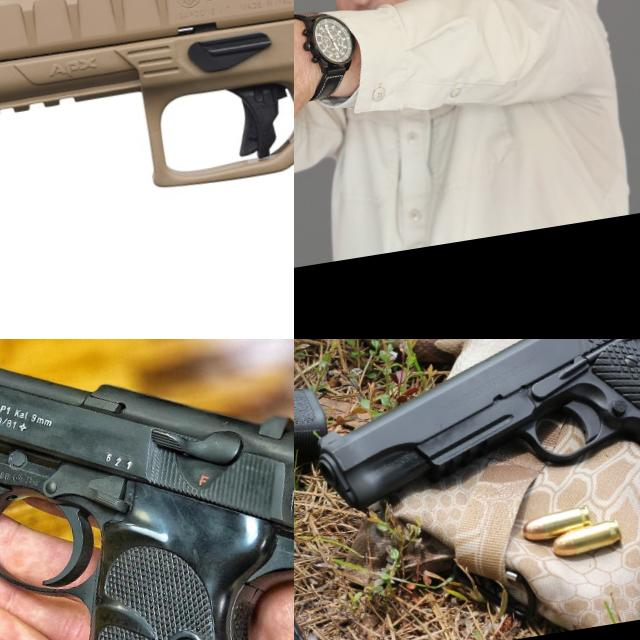handgun: (0, 0, 294, 339), (294, 339, 640, 598), (0, 339, 294, 640), (294, 0, 365, 103)
